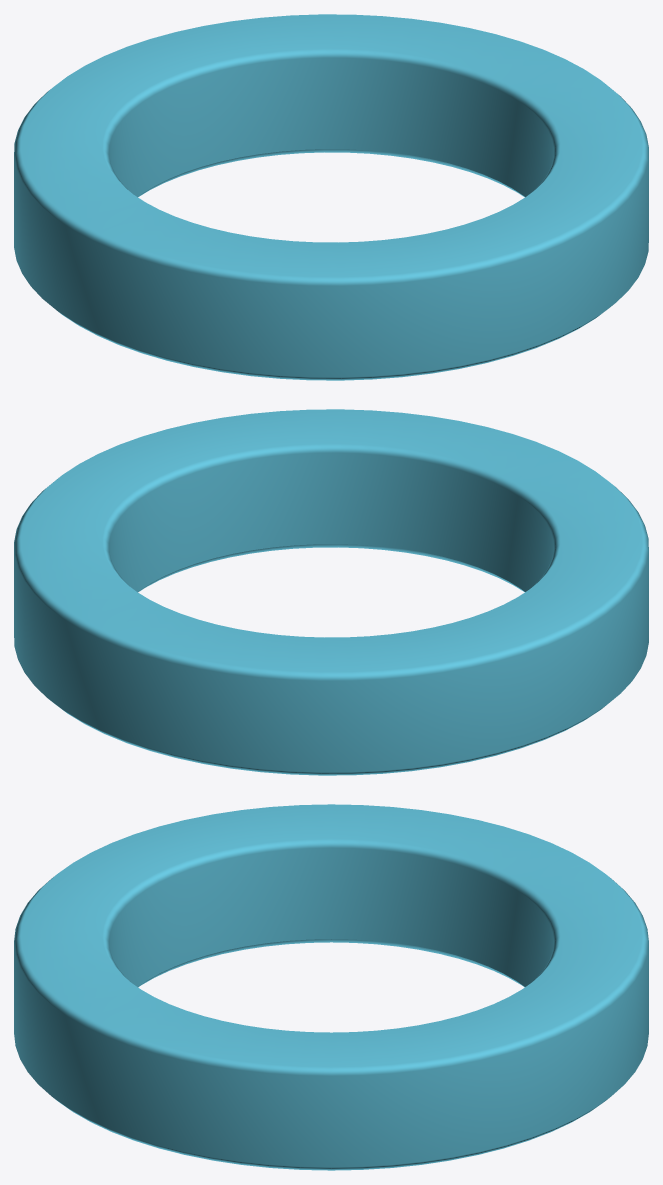
The picture shows the model from 3 angles, top to bottom: view 1: azimuth 30°, elevation 25°; view 2: azimuth 150°, elevation 25°; view 3: azimuth 270°, elevation 25°; orthographic projection.
Parts seen in each view (by area): view 1: seal_body; view 2: seal_body; view 3: seal_body.
Part boxes in pixels (x1=…): seal_body: x1=14, y1=14, x2=648, y2=380; seal_body: x1=14, y1=409, x2=648, y2=775; seal_body: x1=14, y1=804, x2=648, y2=1170.
Size of the model in its own units: 0.05 by 0.009 by 0.05.
